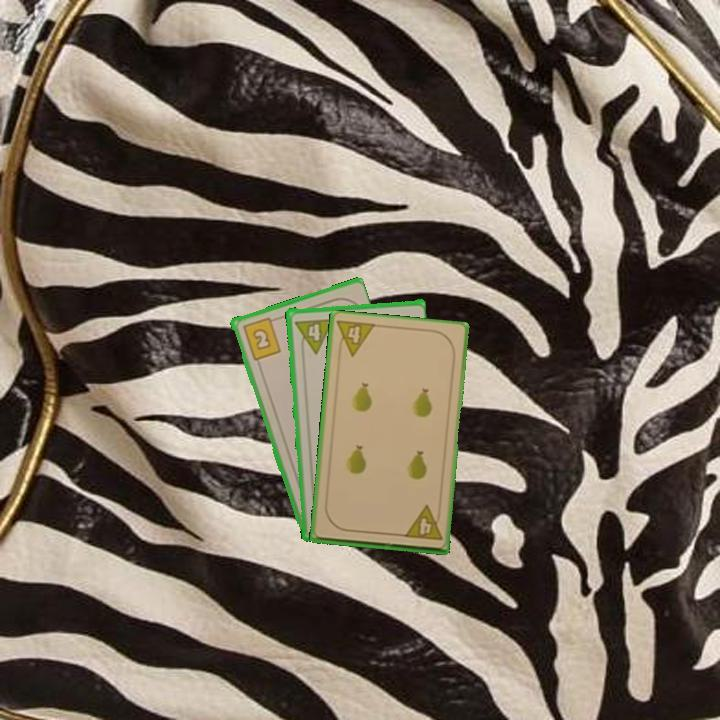2b: (239, 314, 283, 363)
4p: (333, 317, 378, 359), (291, 315, 335, 356), (400, 503, 445, 543)
